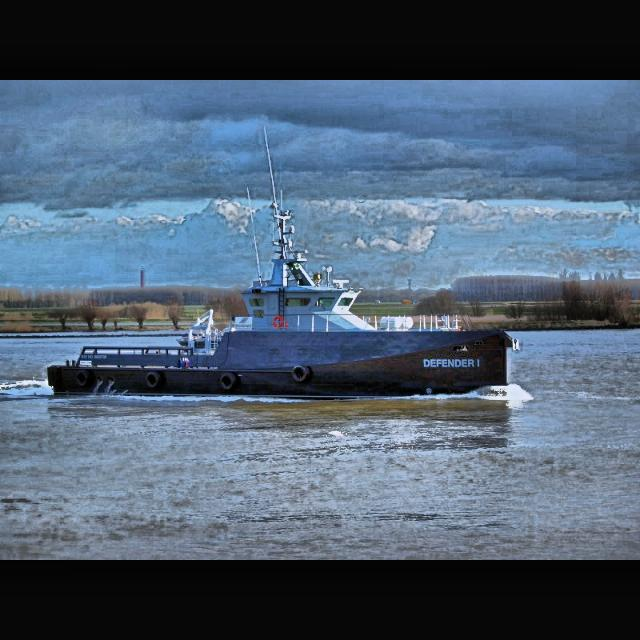patrol_vessel: (46, 188, 522, 400)
